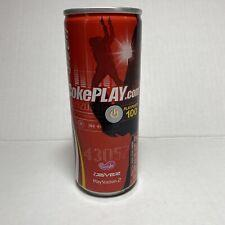metal: (64, 9, 142, 196)
